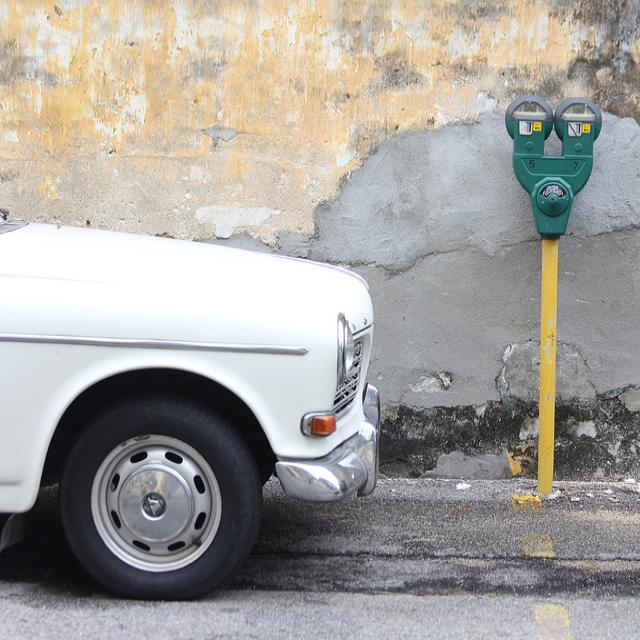Vehicle: (0, 222, 381, 602)
